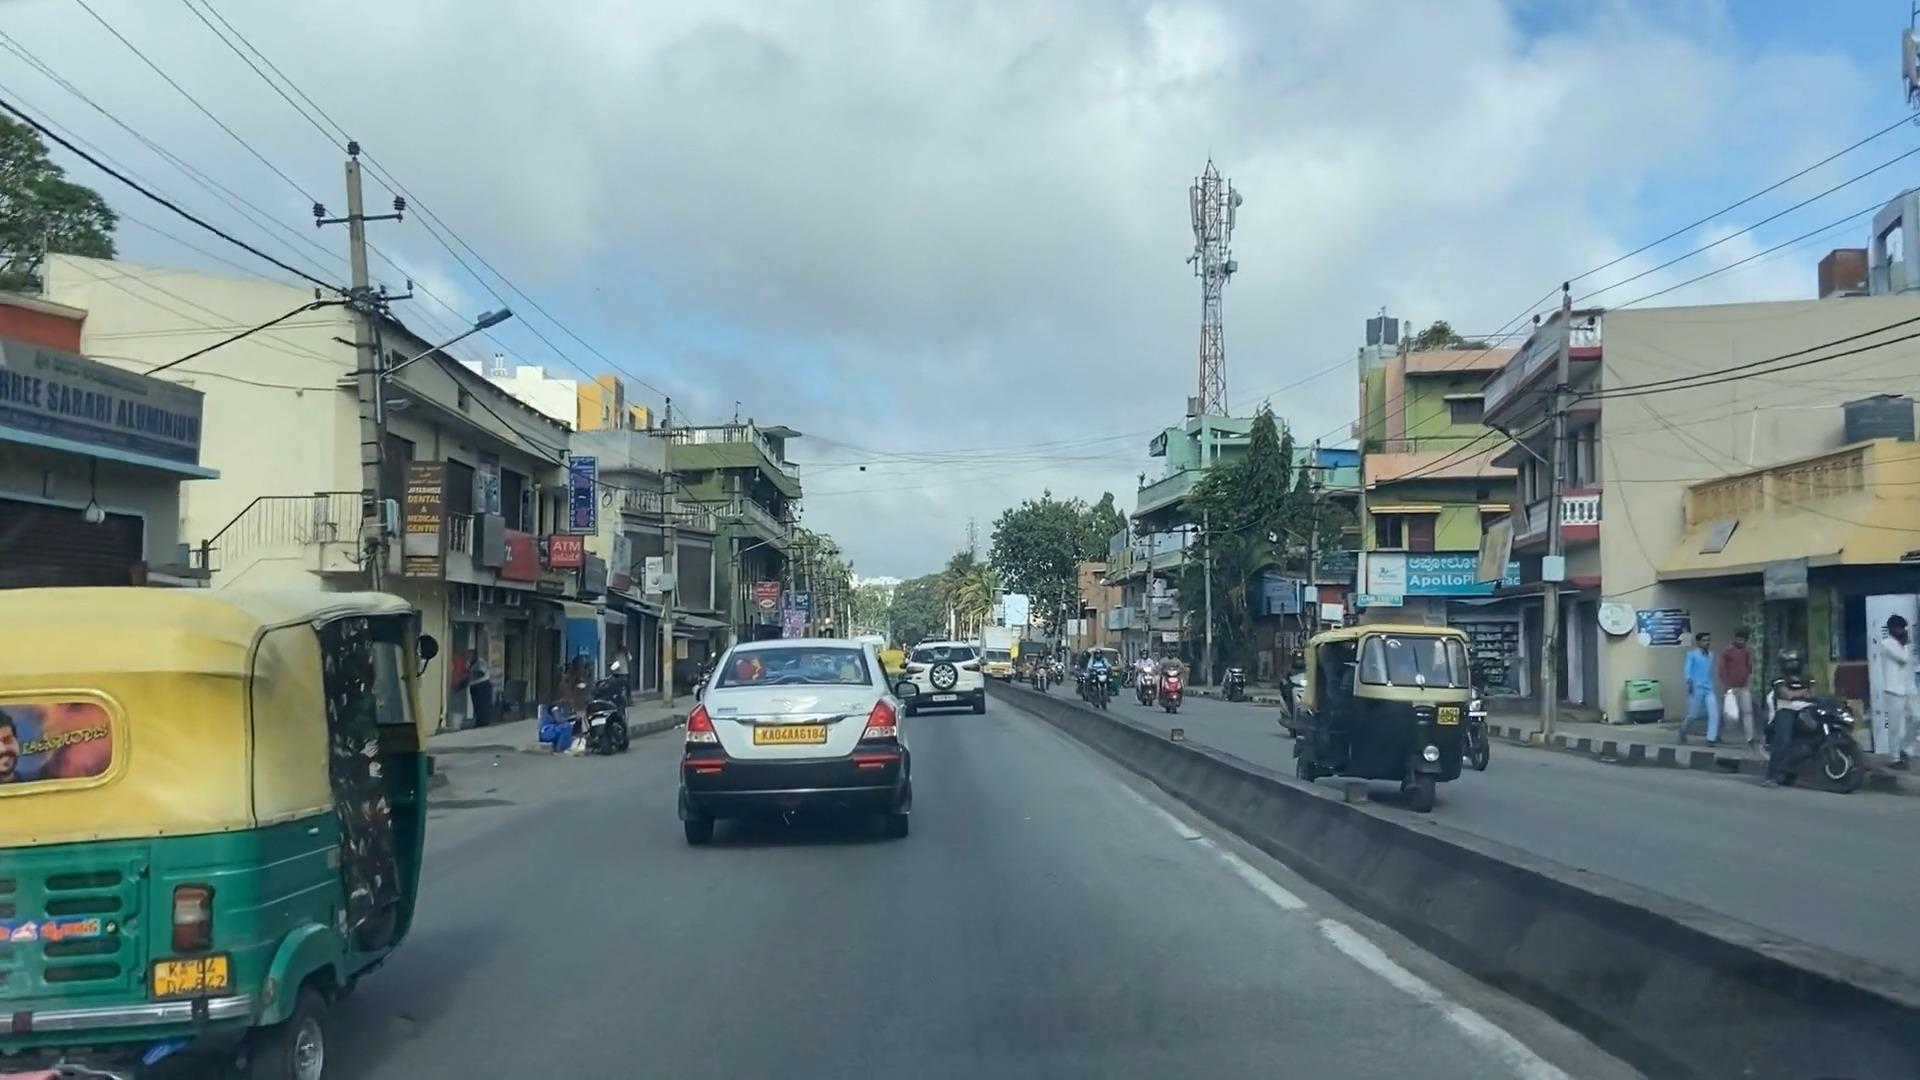LMV: (8, 591, 423, 1080), (680, 647, 907, 851), (905, 647, 986, 713), (583, 665, 628, 758)
